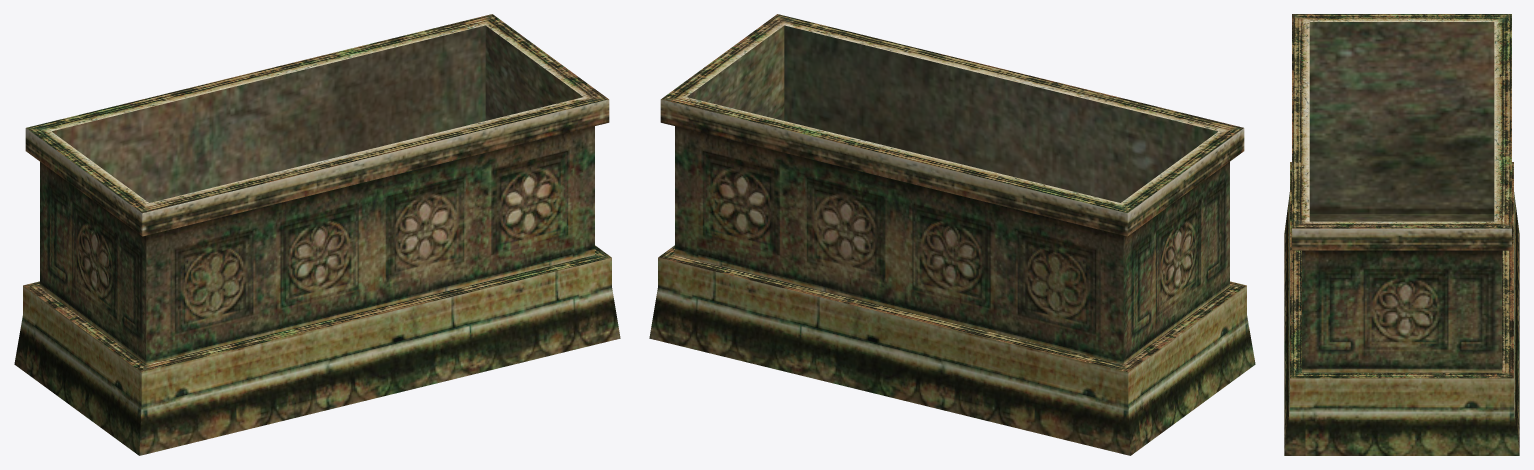
The model's file is tomb.glb.
3 views of the same model, side by side, from view 1: azimuth 30°, elevation 25°; view 2: azimuth 150°, elevation 25°; view 3: azimuth 270°, elevation 25° (orthographic). The views are drawn at different scales.
Parts seen in each view (by area): view 1: coffin; view 2: coffin; view 3: coffin.
Part boxes in pixels (left/top/right/bottom): coffin: left=14, top=14, right=620, bottom=455; coffin: left=649, top=14, right=1255, bottom=455; coffin: left=1284, top=14, right=1519, bottom=455.
Bounding box in the file's own units: 2 × 0.9448 × 0.9.
1 material, 1 textured.
